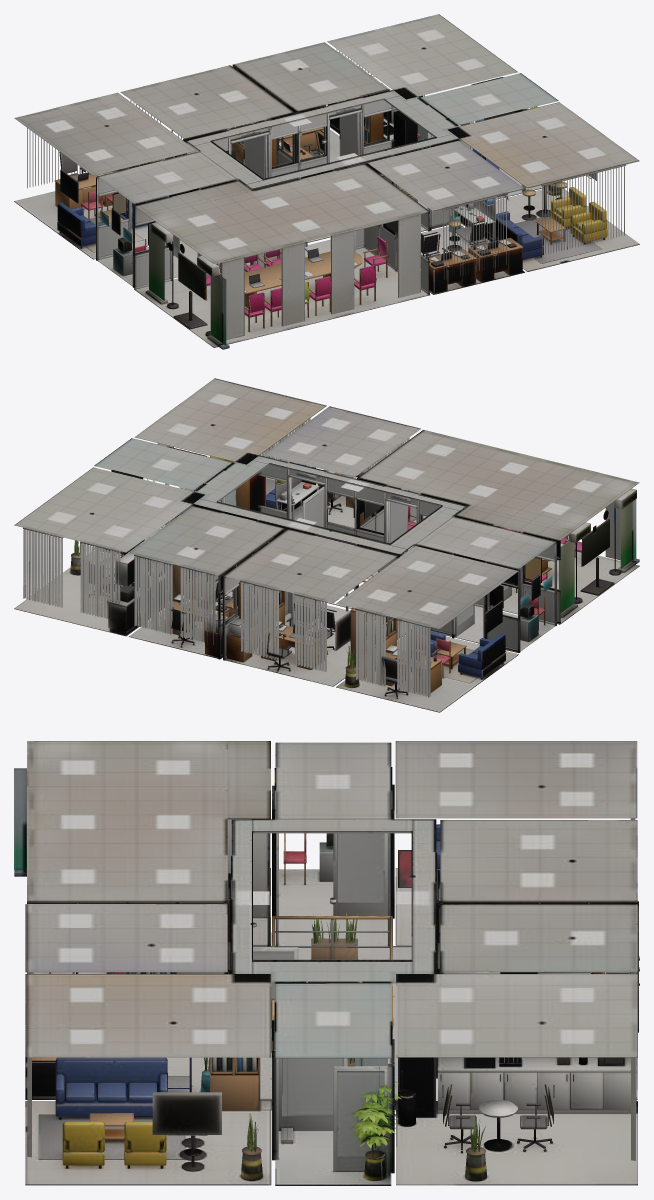
File: world_in1w.glb
3 views of the same model, one above another, from view 1: azimuth 30°, elevation 25°; view 2: azimuth 150°, elevation 25°; view 3: azimuth 270°, elevation 25° (orthographic). The views are drawn at different scales.
Parts seen in each view (by area): view 1: W_in1w; view 2: W_in1w; view 3: W_in1w.
Part boxes in pixels (box(x1,y1,x2,y2)): W_in1w: box(14, 14, 639, 349); W_in1w: box(14, 378, 639, 712); W_in1w: box(14, 741, 639, 1185).
Size of the model in its own units: 13.89 by 2.55 by 11.17.
Materials: 1 (1 with a texture image).
